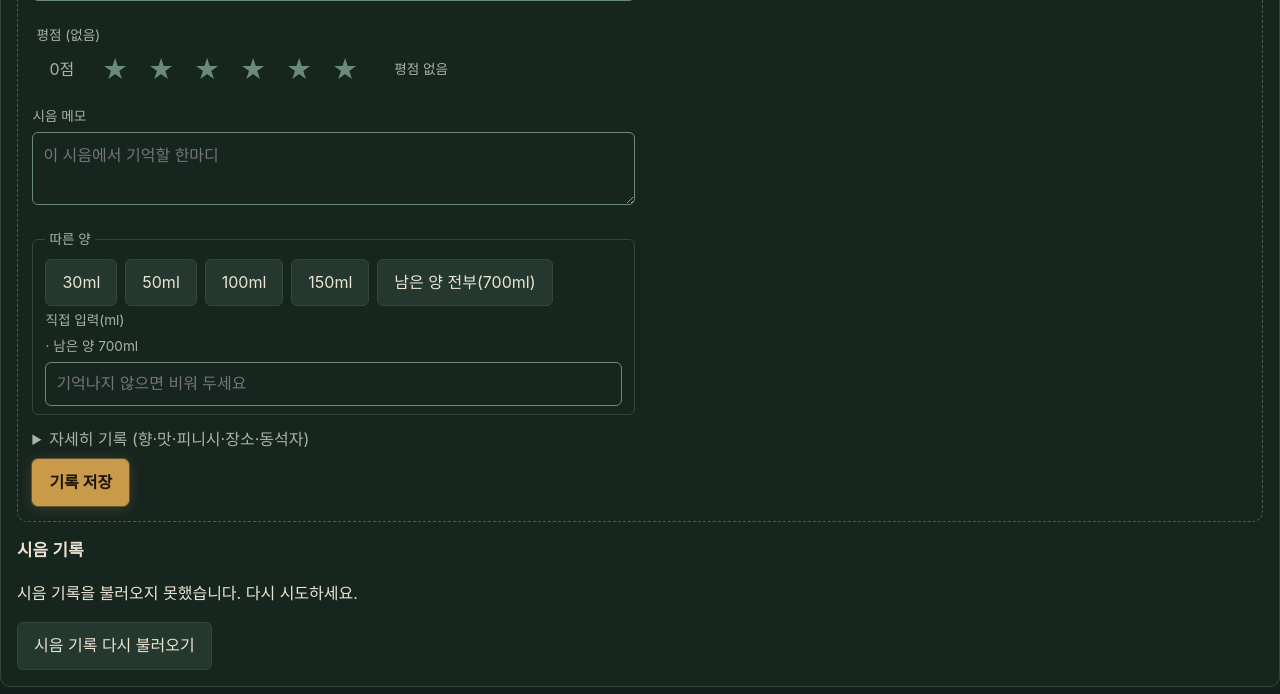
첫 페이지 오류는 재시도 후 실제 query cache에 기록을 채운다
(page scrolled)
Expected: the message shows "시음 기록을 불러오지 못했습니다", [17, 583, 358, 603]
Click the button "시음 기록 다시 불러오기" at x=114, y=646, box [17, 622, 212, 670]
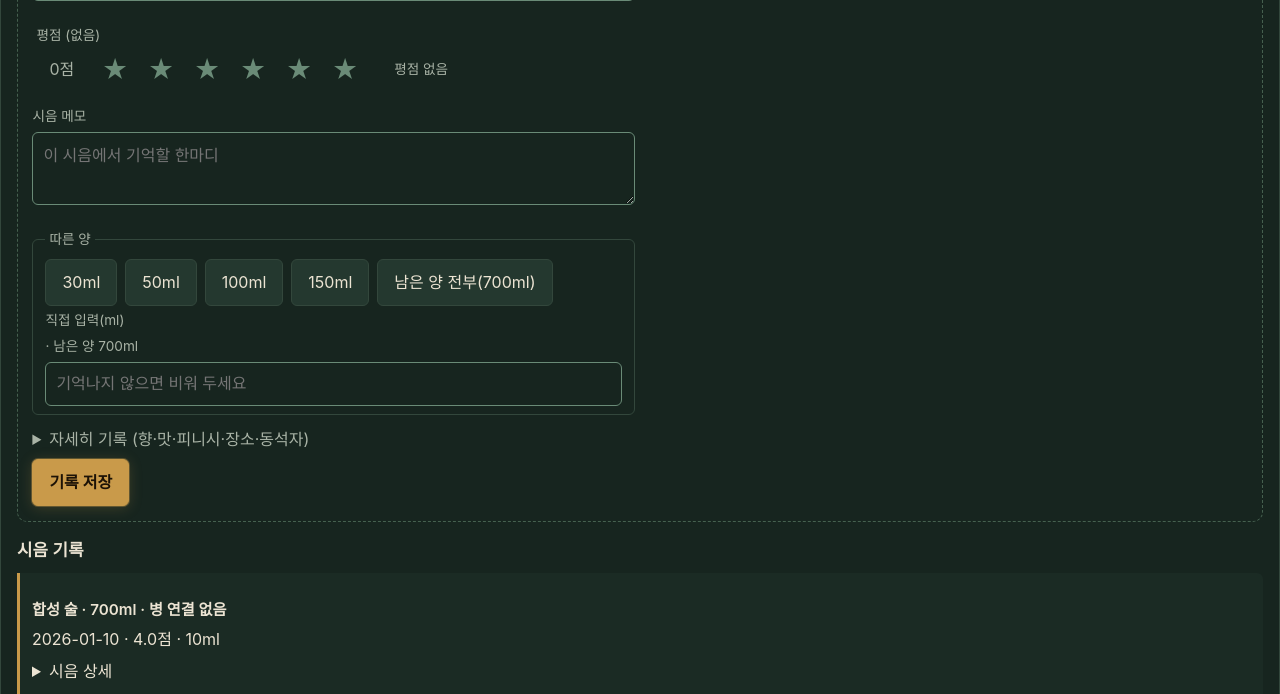
Expected: the message "시음 기록을 불러오지 못했습니다. 다시 시도하세요." is gone
